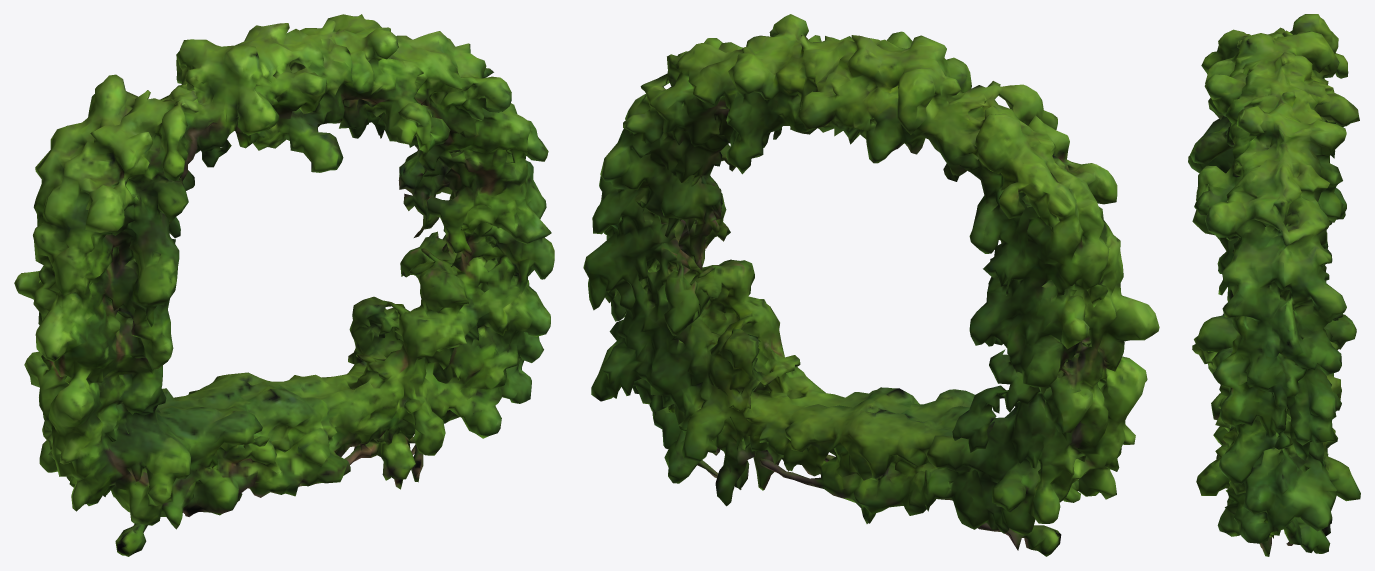
File: AI_ArchingBush.fbx
3 views of the same model, side by side, from view 1: azimuth 30°, elevation 25°; view 2: azimuth 150°, elevation 25°; view 3: azimuth 270°, elevation 25° (orthographic). The views are drawn at different scales.
Parts seen in each view (by area): view 1: Mesh1; view 2: Mesh1; view 3: Mesh1.
Boxes of the visible parts, <box> form: Mesh1: <box>14,14,554,556</box>; Mesh1: <box>583,14,1159,556</box>; Mesh1: <box>1188,14,1360,556</box>.
Bounding box in the file's own units: 199 × 178 × 62.72.
1 material, 1 textured.
